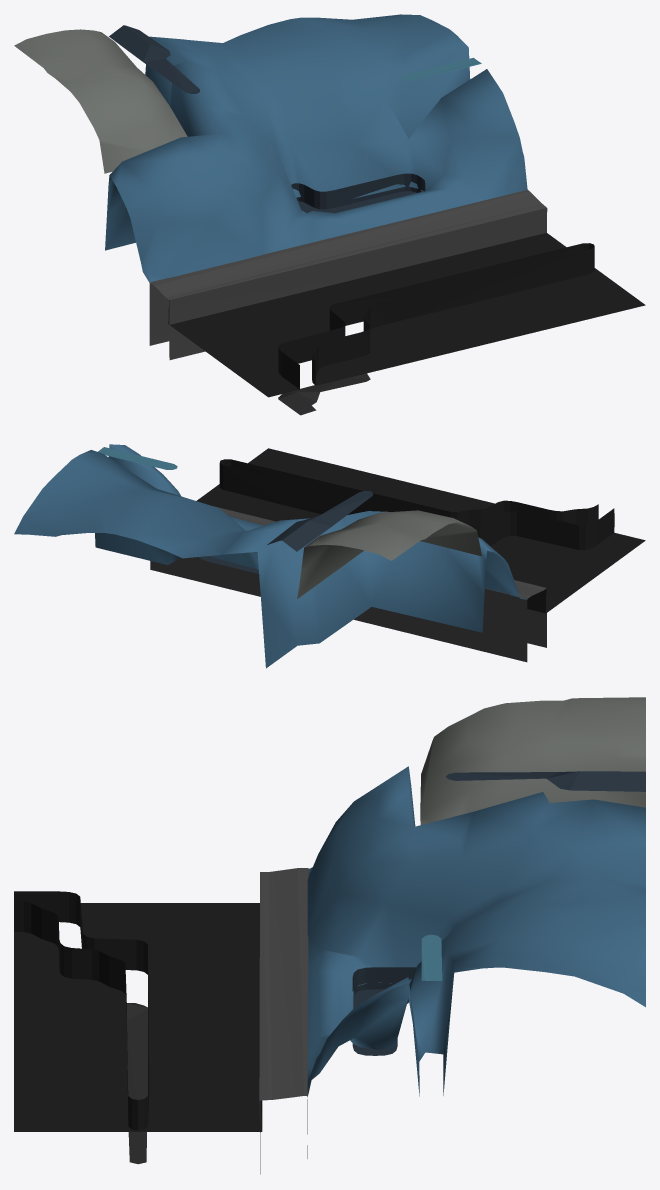
Rendered from newsho-51.glb.
3 views of the same model, one above another, from view 1: azimuth 30°, elevation 25°; view 2: azimuth 150°, elevation 25°; view 3: azimuth 270°, elevation 25° (orthographic). The views are drawn at different scales.
Visible parts, largest first — view 1: newsho-51; view 2: newsho-51; view 3: newsho-51.
Part boxes in pixels (left/top/right/bottom): newsho-51: left=14, top=14, right=645, bottom=415; newsho-51: left=14, top=444, right=645, bottom=668; newsho-51: left=14, top=697, right=645, bottom=1174.
Size of the model in its own units: 2 by 1.04 by 2.33.
